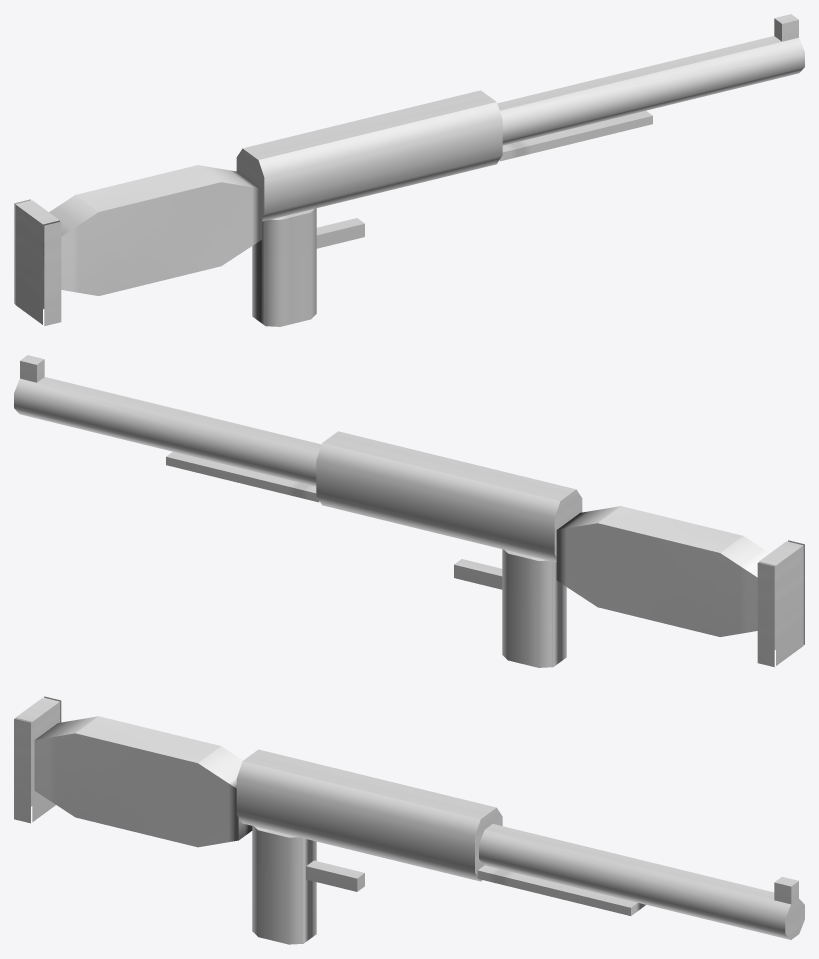
File: shotgun.obj
3 views of the same model, one above another, from view 1: azimuth 30°, elevation 25°; view 2: azimuth 150°, elevation 25°; view 3: azimuth 330°, elevation 25° (orthographic).
Parts seen in each view (by area): view 1: stock_or_grip, receiver, barrel_muzzle, grip_or_magazine, butt_or_trigger, magazine_or_foregrip, trigger_bridge, front_sight; view 2: stock_or_grip, receiver, barrel_muzzle, grip_or_magazine, butt_or_trigger, magazine_or_foregrip, trigger_bridge, front_sight; view 3: stock_or_grip, receiver, barrel_muzzle, grip_or_magazine, butt_or_trigger, magazine_or_foregrip, trigger_bridge, front_sight.
Part boxes in pixels (<box>): stock_or_grip: <box>43,165,262,295</box>; receiver: <box>236,90,502,221</box>; barrel_muzzle: <box>497,36,804,145</box>; grip_or_magazine: <box>252,208,316,326</box>; butt_or_trigger: <box>14,199,61,326</box>; magazine_or_foregrip: <box>496,111,652,161</box>; trigger_bridge: <box>316,218,364,248</box>; front_sight: <box>774,14,798,41</box>; stock_or_grip: <box>556,506,769,636</box>; receiver: <box>316,431,582,562</box>; barrel_muzzle: <box>14,377,321,486</box>; grip_or_magazine: <box>502,549,566,667</box>; butt_or_trigger: <box>757,540,804,667</box>; magazine_or_foregrip: <box>166,452,322,502</box>; trigger_bridge: <box>454,559,502,589</box>; front_sight: <box>20,355,44,382</box>; stock_or_grip: <box>34,716,252,847</box>; receiver: <box>236,749,502,881</box>; barrel_muzzle: <box>479,824,804,939</box>; grip_or_magazine: <box>252,826,316,944</box>; butt_or_trigger: <box>14,696,61,823</box>; magazine_or_foregrip: <box>475,865,645,915</box>; trigger_bridge: <box>306,860,364,891</box>; front_sight: <box>774,876,798,904</box>.
Size of the model in its own units: 0.9 by 0.195 by 0.062.
